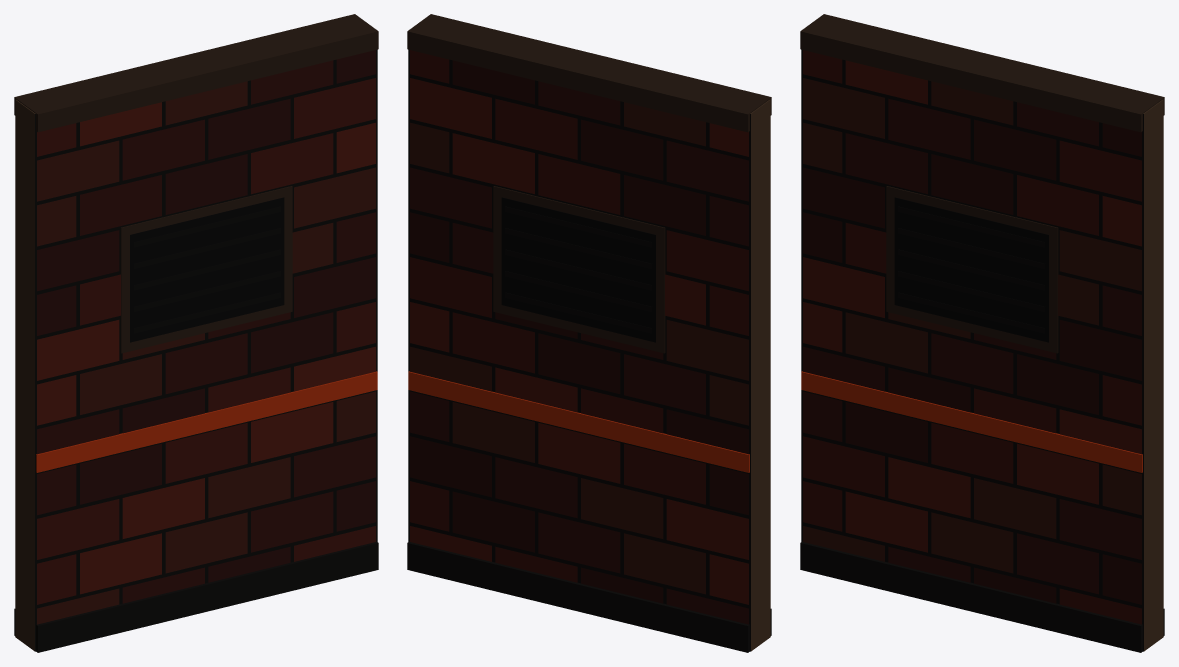
File: SM_Wall_Vent_2x3_Hideout.glb
3 views of the same model, side by side, from view 1: azimuth 30°, elevation 25°; view 2: azimuth 150°, elevation 25°; view 3: azimuth 330°, elevation 25° (orthographic).
Parts seen in each view (by area): view 1: SM_Wall_Vent_2x3_Hideout-col; view 2: SM_Wall_Vent_2x3_Hideout-col; view 3: SM_Wall_Vent_2x3_Hideout-col.
Boxes of the visible parts, x1,y1,x2,y2 form: SM_Wall_Vent_2x3_Hideout-col: (14, 14, 378, 652); SM_Wall_Vent_2x3_Hideout-col: (407, 14, 771, 652); SM_Wall_Vent_2x3_Hideout-col: (800, 14, 1164, 652).
Size of the model in its own units: 2 by 3 by 0.24.
